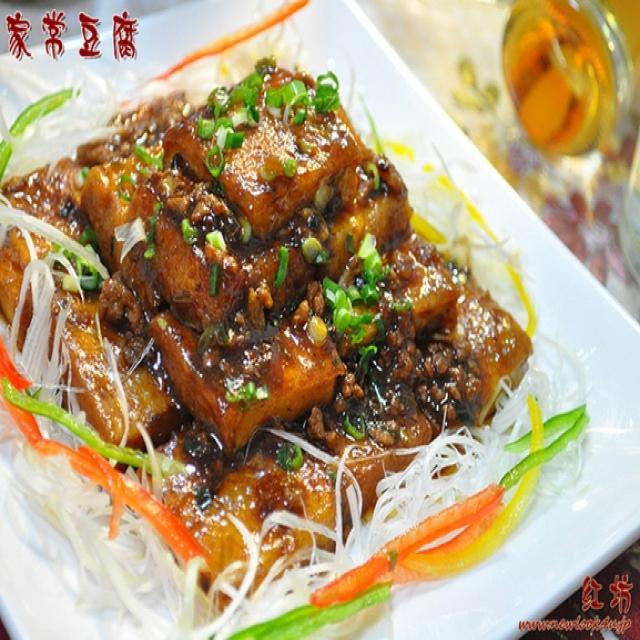豆腐料理: (21, 44, 586, 615)
